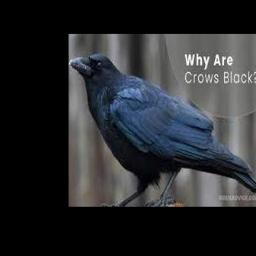Crow: (69, 54, 256, 205)
